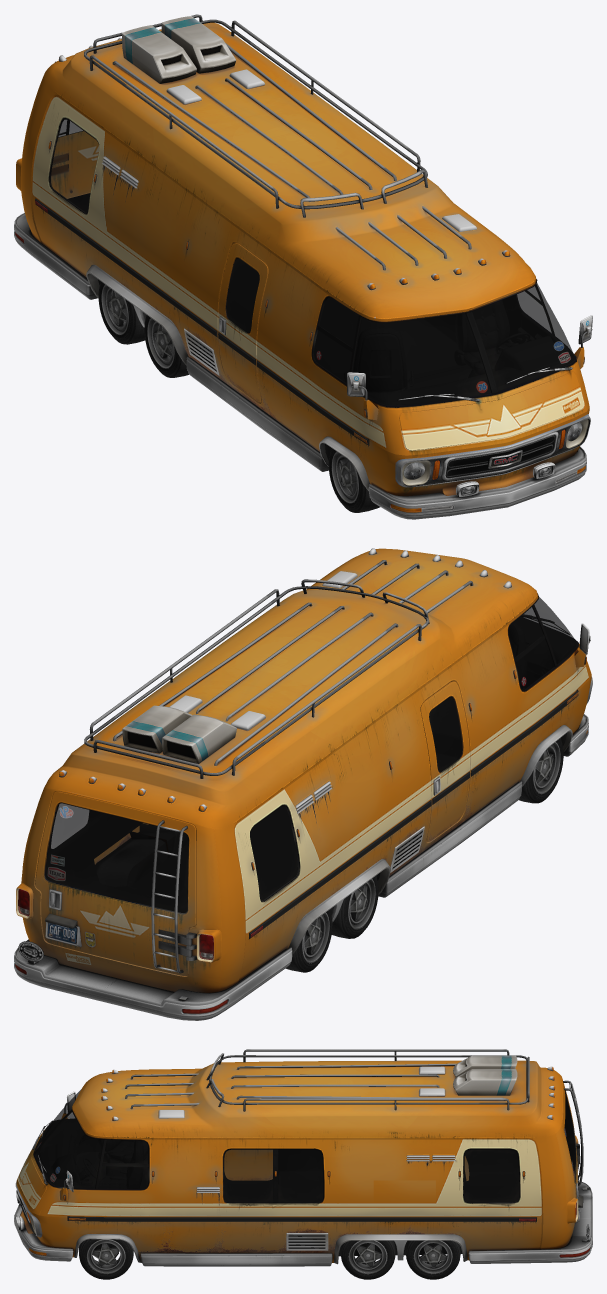
The model's file is van1.gltf.
3 views of the same model, one above another, from view 1: azimuth 30°, elevation 25°; view 2: azimuth 150°, elevation 25°; view 3: azimuth 270°, elevation 25° (orthographic). The views are drawn at different scales.
Visible parts, largest first — view 1: Plane.009_Plane.003, Plane.005_Plane.006, Plane.006_Plane.016, Cube.003, Cube.003_Cube.008, Plane.004_Plane.005, Plane.001, Plane.003_Plane.002; view 2: Plane.009_Plane.003, Plane.005_Plane.006, Plane.006_Plane.016, Plane.003_Plane.002, Plane.001, Plane.004_Plane.005, Cube.003; view 3: Plane.009_Plane.003, Plane.005_Plane.006, Plane.006_Plane.016, Plane.004_Plane.005, Plane.003_Plane.002, Plane.001, Cube.003_Cube.008, Cube.003.
Part boxes in pixels (x1,y1,x2,y2): Plane.009_Plane.003: (14,14,592,519); Plane.005_Plane.006: (51,119,574,405); Plane.006_Plane.016: (50,149,574,405); Cube.003: (344,327,413,392); Cube.003_Cube.008: (454,300,522,375); Plane.004_Plane.005: (98,281,146,344); Plane.001: (328,448,379,512); Plane.003_Plane.002: (144,315,188,377); Plane.009_Plane.003: (14,548,592,1020); Plane.005_Plane.006: (45,597,576,912); Plane.006_Plane.016: (45,617,576,912); Plane.003_Plane.002: (330,876,378,938); Plane.001: (519,738,563,803); Plane.004_Plane.005: (285,909,332,972); Cube.003: (508,621,527,688); Plane.009_Plane.003: (14,1049,592,1266); Plane.005_Plane.006: (36,1089,575,1201); Plane.006_Plane.016: (36,1092,575,1202); Plane.004_Plane.005: (405,1240,460,1279); Plane.003_Plane.002: (340,1240,395,1279); Plane.001: (79,1239,133,1279); Cube.003_Cube.008: (98,1140,144,1188); Cube.003: (97,1139,148,1163).
Bounding box in the file's own units: 3.21 × 3.18 × 9.29.
4 materials, 4 textured.
